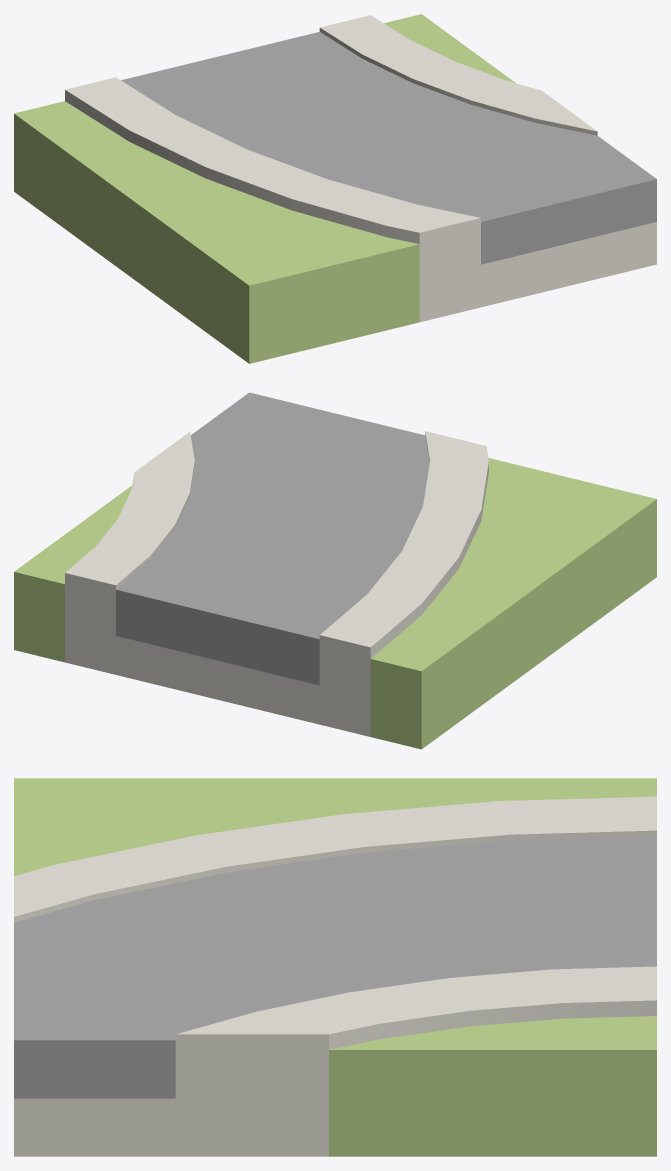
Rendered from road_tile_041.glb.
3 renders of one model, top to bottom at view 1: azimuth 30°, elevation 25°; view 2: azimuth 150°, elevation 25°; view 3: azimuth 270°, elevation 25°, orthographic. The views are drawn at different scales.
Visible parts, largest first — view 1: roadTile_041; view 2: roadTile_041; view 3: roadTile_041.
Boxes of the visible parts, bbox=[...] form: roadTile_041: bbox=[14, 14, 656, 363]; roadTile_041: bbox=[14, 392, 656, 749]; roadTile_041: bbox=[14, 778, 656, 1156].
Size of the model in its own units: 3 by 0.63 by 3.
